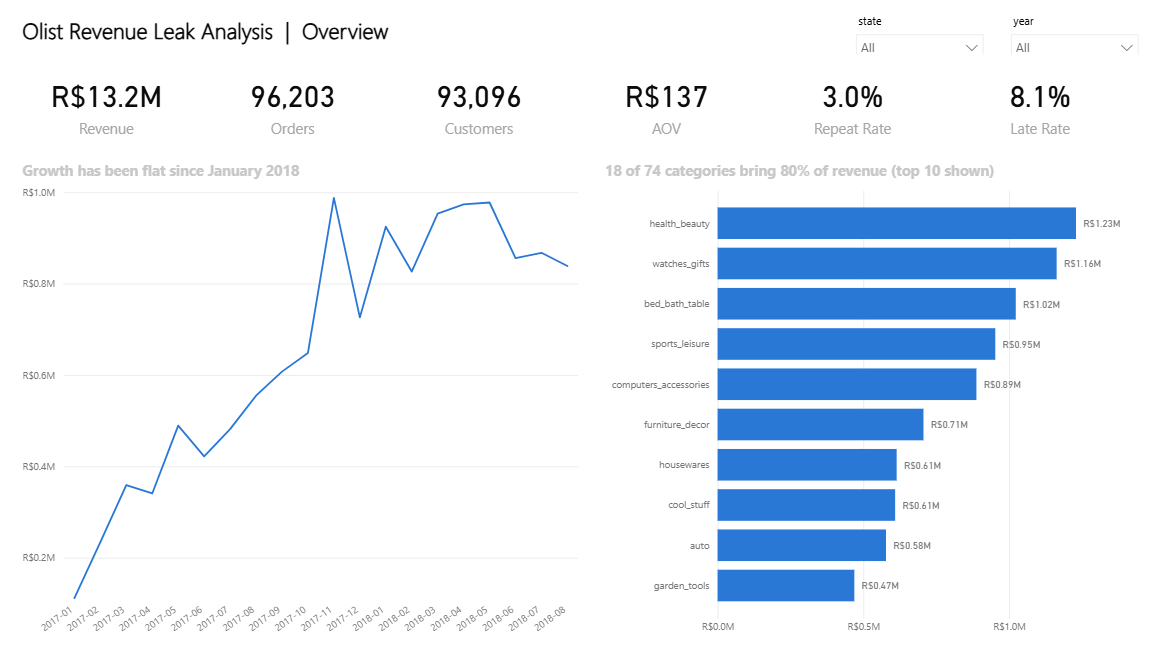

The dashboard page shown, as its layout file describes it:
{"tool":"powerbi","page":{"name":"Overview","canvas":[1280,720],"ordinal":0},"visuals":[{"type":"textbox","box":[20,12,900,44],"z":0},{"type":"slicer","fields":{"Values":["dim_customer.state"]},"box":[930,10,160,50],"z":10},{"type":"slicer","fields":{"Values":["dim_date.year"]},"box":[1100,10,160,50],"z":20},{"type":"card","fields":{"Values":["fact_orders.Revenue"]},"box":[20,70,195,90],"z":30},{"type":"card","fields":{"Values":["fact_orders.Orders"]},"box":[225,70,195,90],"z":40},{"type":"card","fields":{"Values":["fact_orders.Customers"]},"box":[430,70,195,90],"z":50},{"type":"card","fields":{"Values":["fact_orders.AOV"]},"box":[635,70,195,90],"z":60},{"type":"card","fields":{"Values":["fact_orders.Repeat Rate"]},"box":[840,70,195,90],"z":70},{"type":"card","fields":{"Values":["fact_orders.Late Rate"]},"box":[1045,70,195,90],"z":80},{"type":"lineChart","title":"Growth has been flat since January 2018","fields":{"Category":["dim_date.year_month"],"Y":["fact_orders.Revenue"]},"box":[20,175,620,530],"z":90},{"type":"clusteredBarChart","title":"18 of 74 categories bring 80% of revenue (top 10 shown)","fields":{"Category":["dim_product.category"],"Y":["fact_orders.Revenue Top 10 Category"]},"box":[660,175,600,530],"z":100}]}

Visuals, with their boxes in screenshot pixels (x1, y1, x2, y2), scaled from the page's 1280x720 canvas onto the 1164x655 screenshot:
textbox: locate(18, 11, 837, 51)
slicer - dim_customer.state: locate(846, 9, 991, 55)
slicer - dim_date.year: locate(1000, 9, 1146, 55)
card - fact_orders.Revenue: locate(18, 64, 196, 146)
card - fact_orders.Orders: locate(205, 64, 382, 146)
card - fact_orders.Customers: locate(391, 64, 568, 146)
card - fact_orders.AOV: locate(577, 64, 755, 146)
card - fact_orders.Repeat Rate: locate(764, 64, 941, 146)
card - fact_orders.Late Rate: locate(950, 64, 1128, 146)
"Growth has been flat since January 2018" lineChart: locate(18, 159, 582, 641)
"18 of 74 categories bring 80% of revenue (top 10 shown)" clusteredBarChart: locate(600, 159, 1146, 641)
